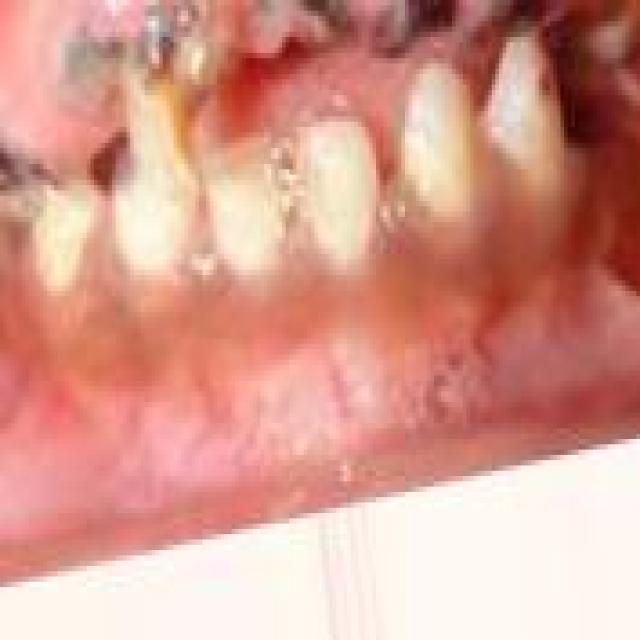caries: (116, 9, 224, 191), (50, 12, 131, 125), (0, 136, 71, 240), (363, 0, 459, 75), (280, 0, 356, 71), (482, 0, 564, 63)
